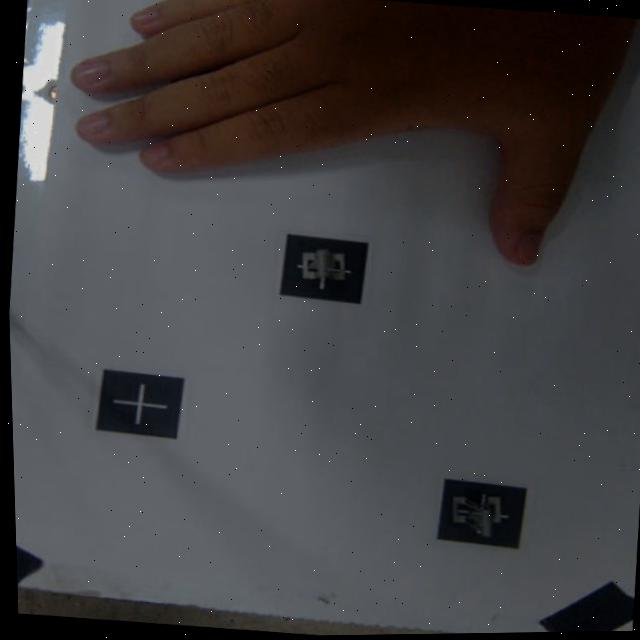pick3: (278, 232, 369, 302)
pick5: (437, 476, 526, 549)
